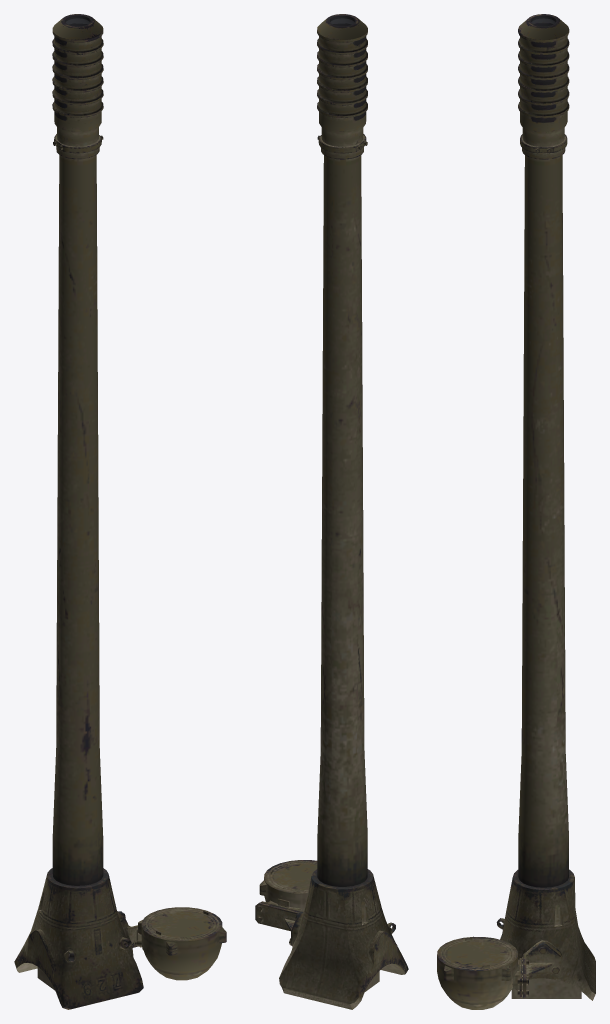
The model's file is Gun_01.glb.
3 views of the same model, side by side, from view 1: azimuth 30°, elevation 25°; view 2: azimuth 150°, elevation 25°; view 3: azimuth 270°, elevation 25° (orthographic).
Parts seen in each view (by area): view 1: set_0_group_0; view 2: set_0_group_0; view 3: set_0_group_0.
Boxes of the visible parts, x1=… form: set_0_group_0: x1=14, y1=14, x2=226, y2=1009; set_0_group_0: x1=255, y1=14, x2=408, y2=1009; set_0_group_0: x1=437, y1=14, x2=595, y2=1009.
Bounding box in the file's own units: 0.7298 × 4.6 × 0.6843.
Materials: 1 (1 with a texture image).
